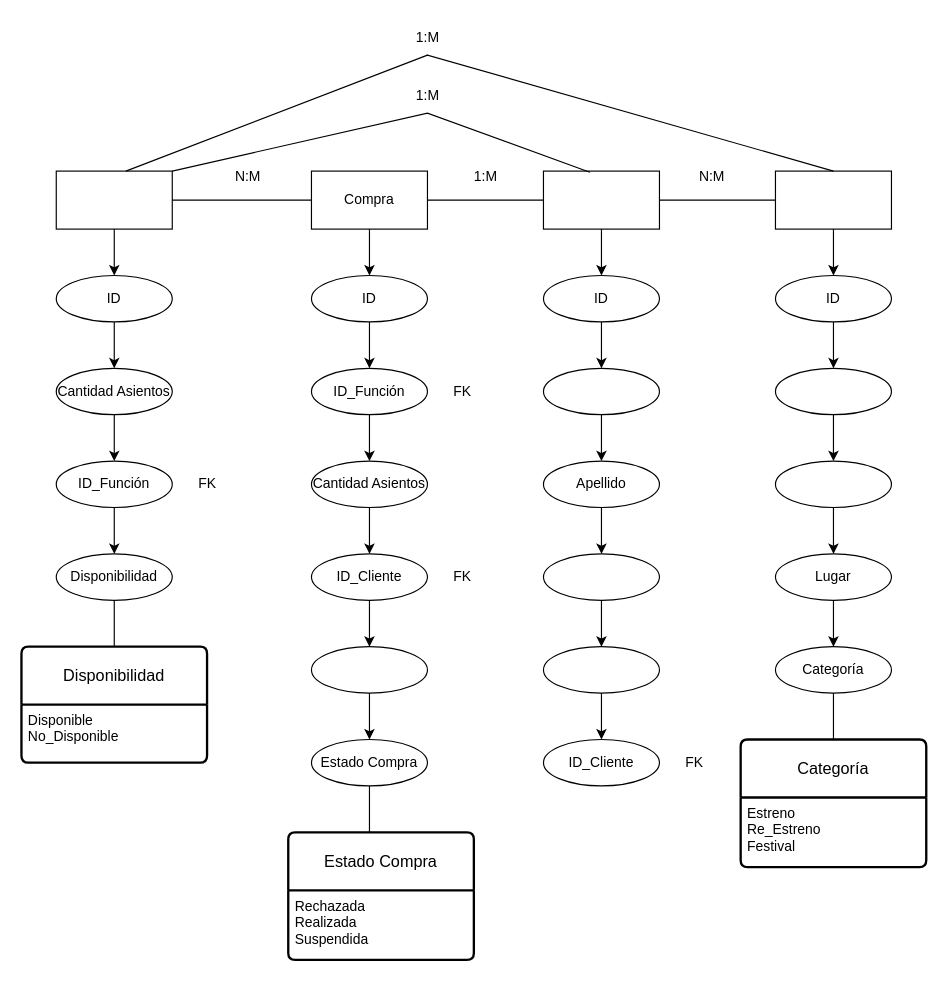
This 947x985 diagram has some shape labels left out. Here are the shapes that lost their labels. From the top down, the centre of each, then its label:
At [113,199]: "Butaca".
At [600,199]: "Espectador".
At [832,199]: "Función".
At [600,391]: "Nombre".
At [832,391]: "Titulo".
At [832,483]: "Fecha".
At [600,576]: "Teléfono".
At [368,669]: "Fecha Función".
At [600,669]: "Email".
